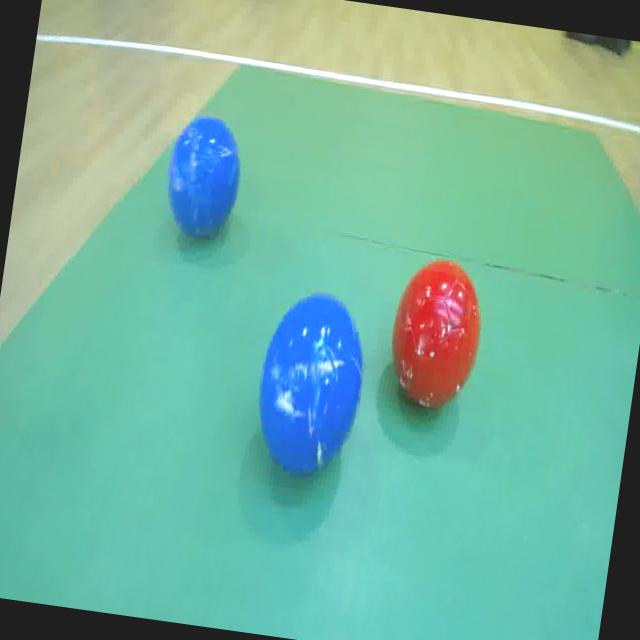blue_ball: (242, 284, 378, 496), (157, 110, 250, 250)
red_ball: (378, 250, 492, 422)
